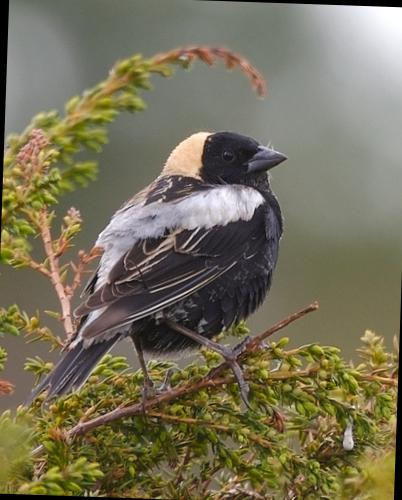bird: (18, 111, 314, 455)
